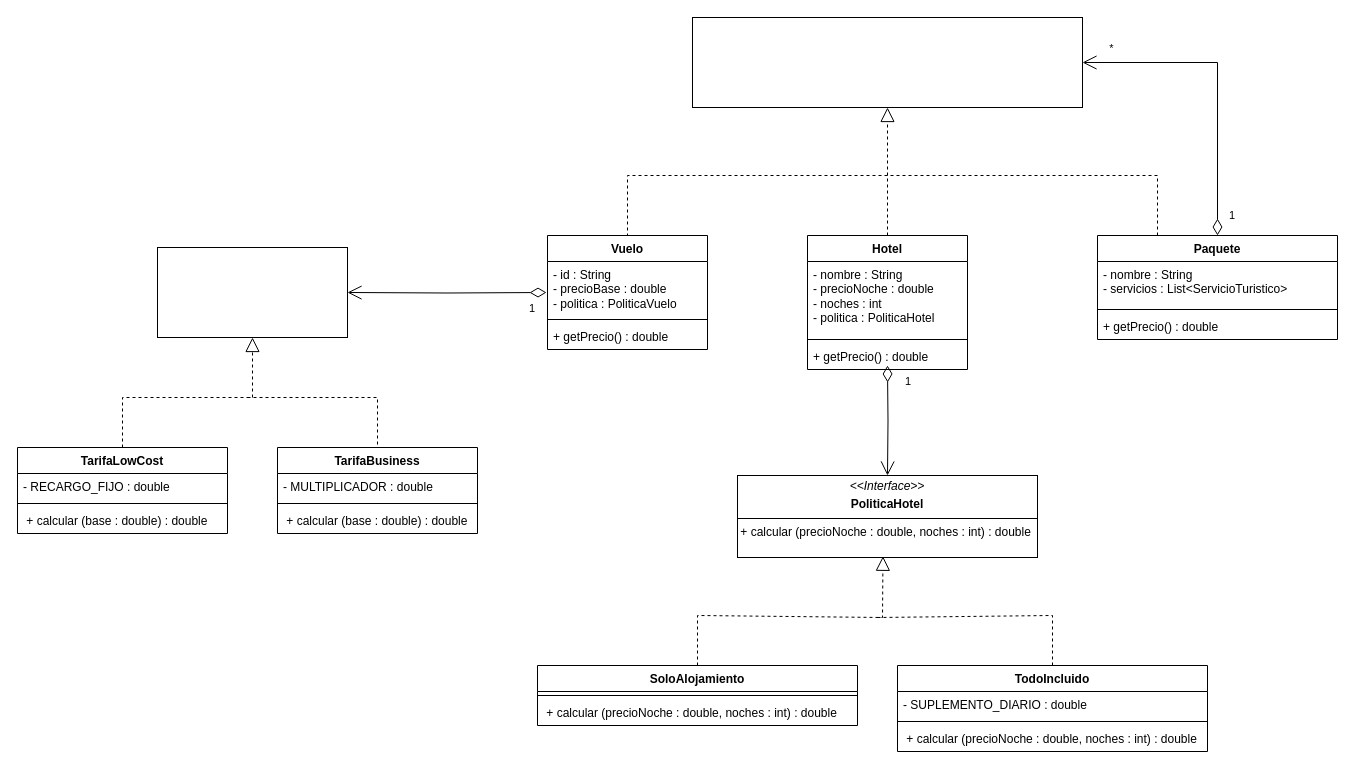
Some shapes in this 1355 by 772 pixel diagram are drawn without their labels. The shapes that lost their labels are listed below. From the top down, each one's centre as x and y in pixels, then its label:
At pixel 887 62: "<<Interface>> ServicioTuristico + getPrecio() : double".
At pixel 252 292: "<<Interface>> PoliticaVuelo + calcular (base : double) : double".
